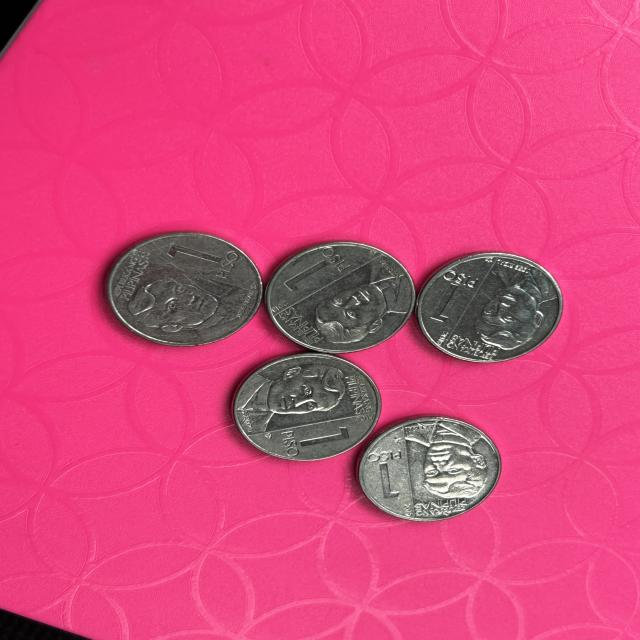1_New_Front: (423, 260, 474, 329), (163, 235, 238, 281), (281, 422, 356, 464), (280, 245, 342, 294), (363, 444, 411, 505)
